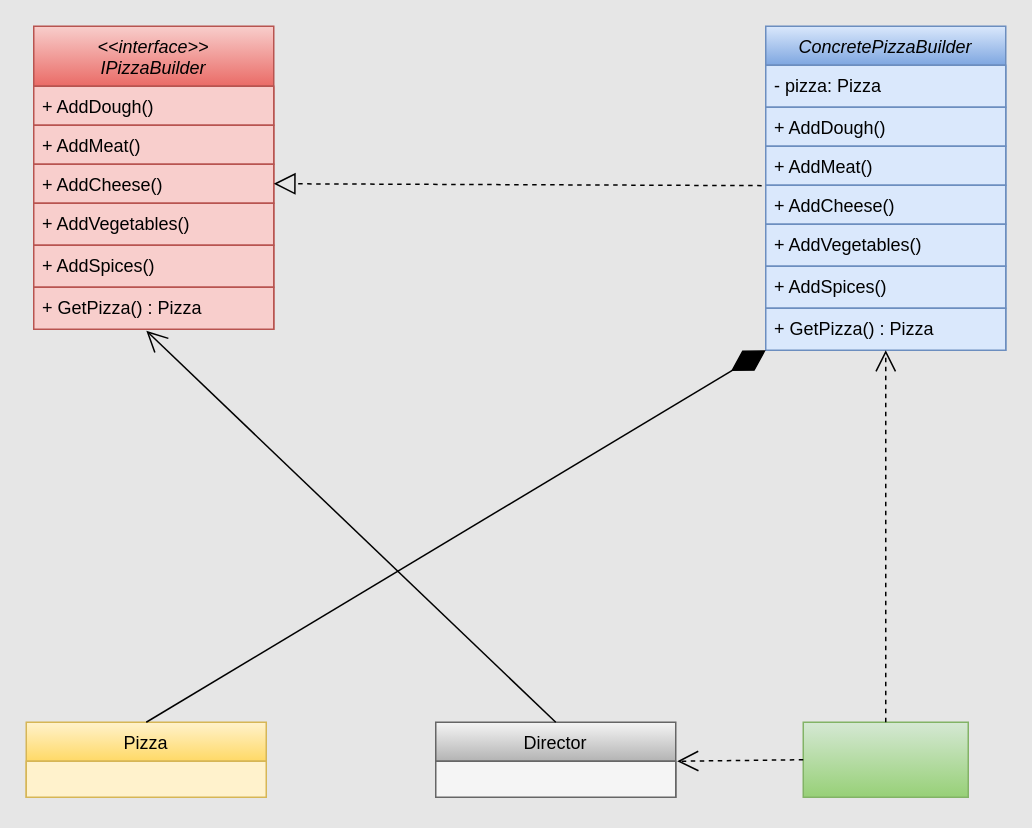
The diagram is 1032 pixels wide and 828 high, and some of its shapes have lost their labels. Here are the shapes that lost their labels. From the top down, the centre of each, then its label:
pixel 145 778: + ToString()
pixel 555 778: + Construct()
pixel 885 759: Client
